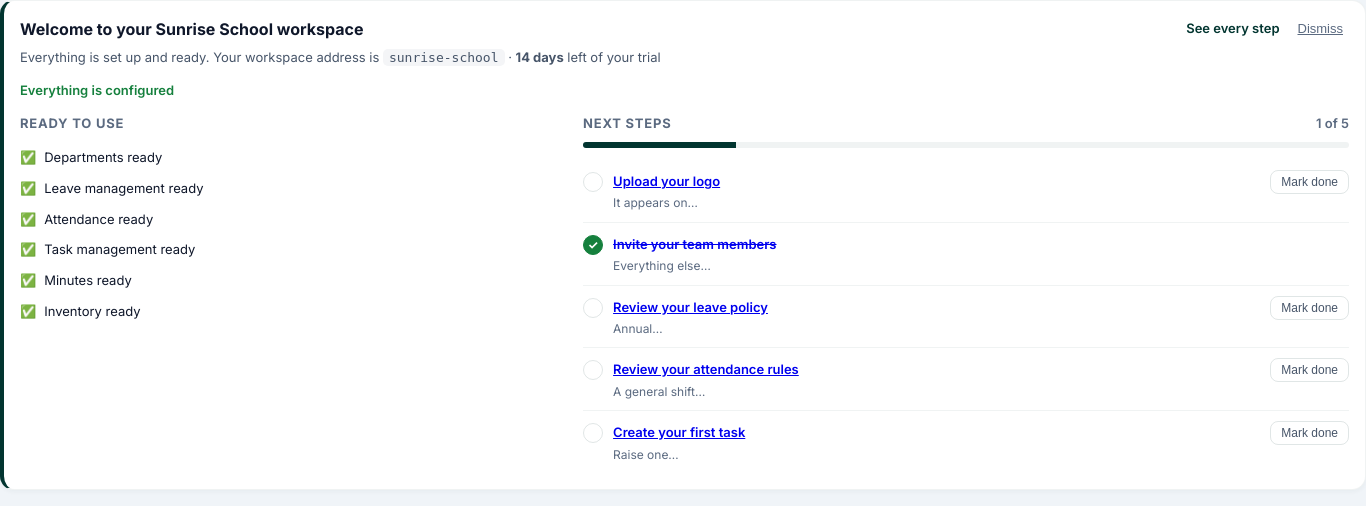
Scenario: ticking steps › sends the tick and takes the server’s new state
The width and height of the screenshot is (1366, 506).
Expected: the link "Invite your team members" is shown, [613,236,776,252]
Click the button "Mark done" in the row of "Upload your logo". click: (1310, 182)
box: [1270,170,1349,194]
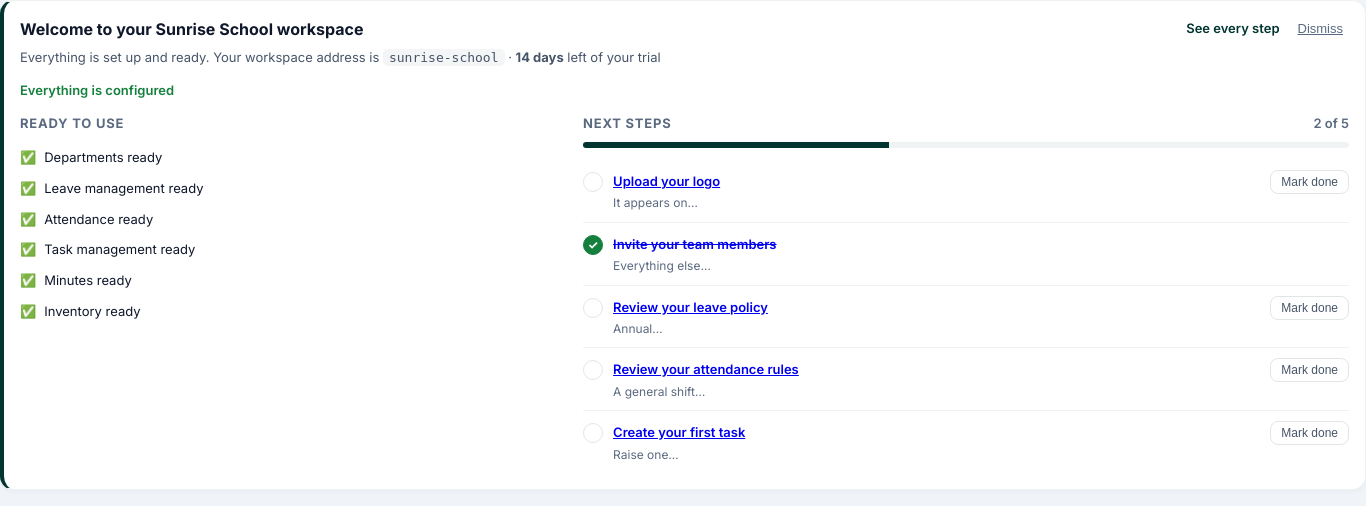
Expected: the text "2 of 5" is shown, [1313,113,1349,134]
